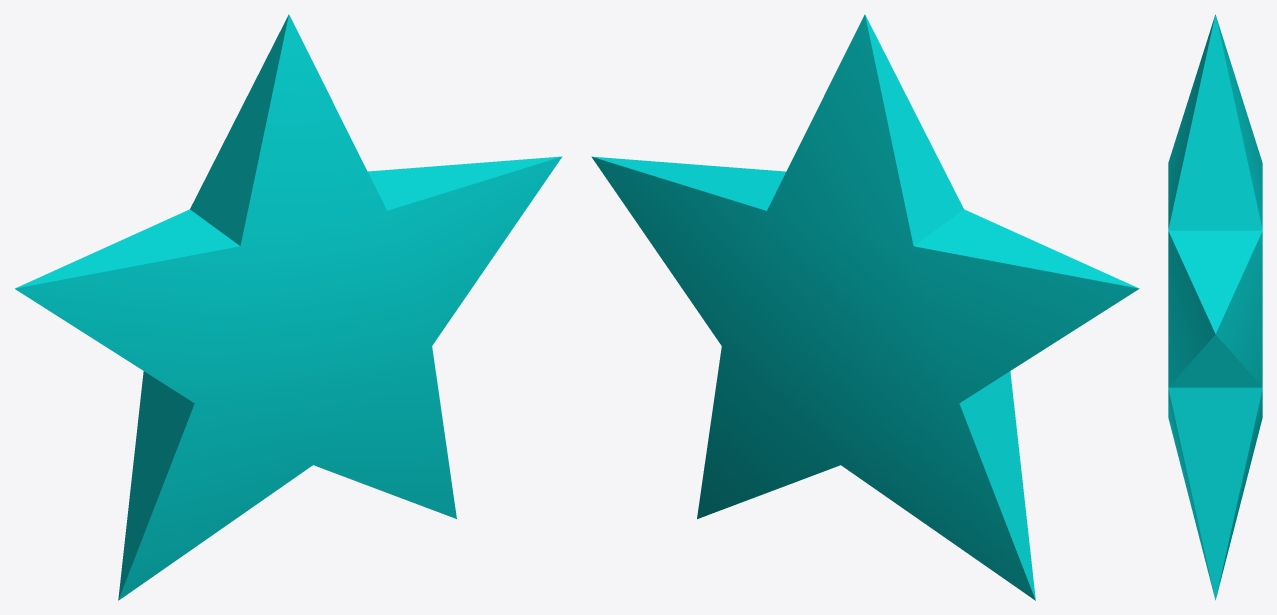
The model's file is 059 Star.fbx.
3 views of the same model, side by side, from view 1: azimuth 30°, elevation 25°; view 2: azimuth 150°, elevation 25°; view 3: azimuth 270°, elevation 25° (orthographic). The views are drawn at different scales.
Visible parts, largest first — view 1: Lowpoly_Christmas_Pack_059:pCylinder1; view 2: Lowpoly_Christmas_Pack_059:pCylinder1; view 3: Lowpoly_Christmas_Pack_059:pCylinder1.
Boxes of the visible parts, left/top/right/bottom form: Lowpoly_Christmas_Pack_059:pCylinder1: left=15, top=14, right=562, bottom=600; Lowpoly_Christmas_Pack_059:pCylinder1: left=591, top=14, right=1139, bottom=600; Lowpoly_Christmas_Pack_059:pCylinder1: left=1168, top=14, right=1262, bottom=600.
Size of the model in its own units: 2.39 by 2.28 by 0.3824.
